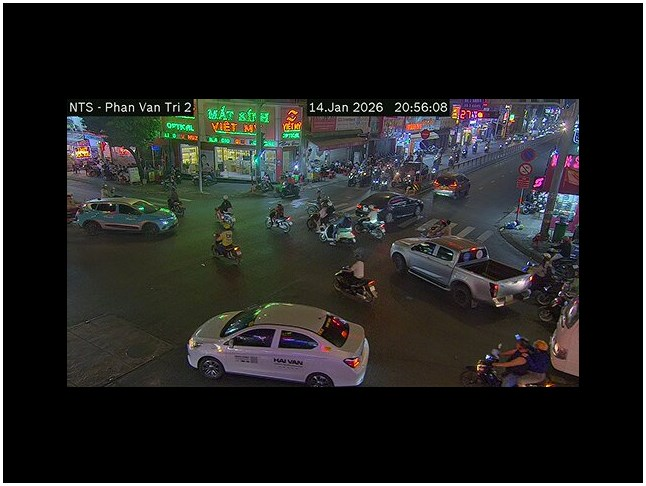car: (185, 301, 371, 386), (390, 235, 534, 310), (75, 197, 178, 238), (354, 192, 424, 223), (431, 172, 471, 200)
motorbike: (332, 262, 379, 303), (211, 228, 242, 262)
